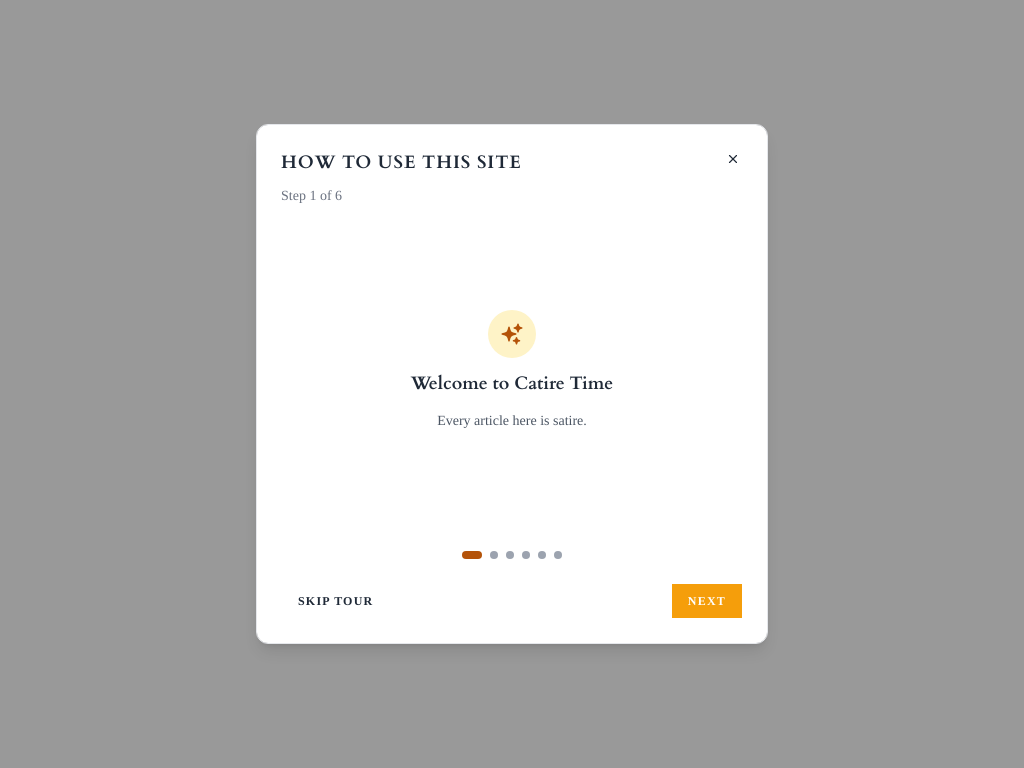
Test: OnboardingTour — live controls › renders the language and theme pickers on the preferences slide
The image size is (1024, 768).
What coordinates should you click on to do the following:
click the button named "Go to step"
I would click on:
 (494, 555)
Its box is [490,551,498,559].
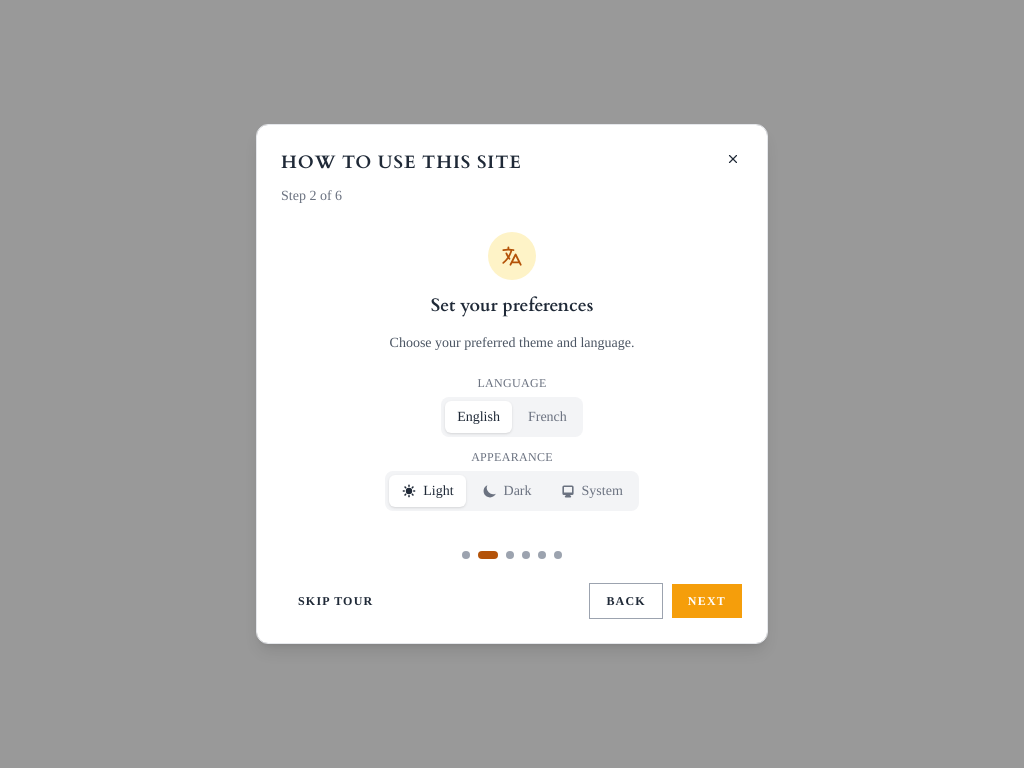
Expected: the button "English" is shown, [445,401,512,433]
Expected: the button "French" is shown, [516,401,579,433]
